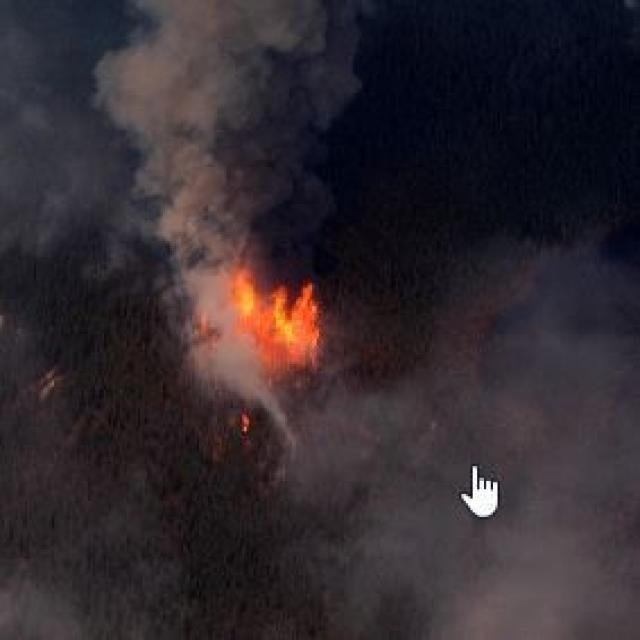Fire: (225, 276, 336, 356)
Smoke: (3, 1, 639, 638)
